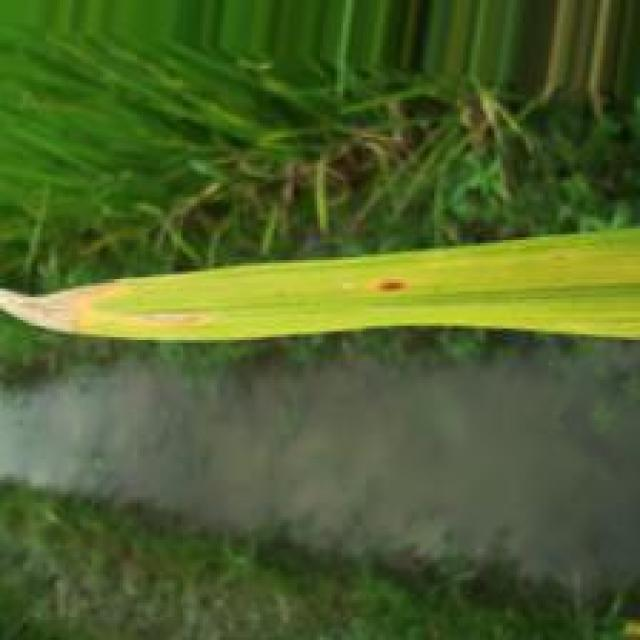Brown_Spot: (365, 279, 415, 296)
